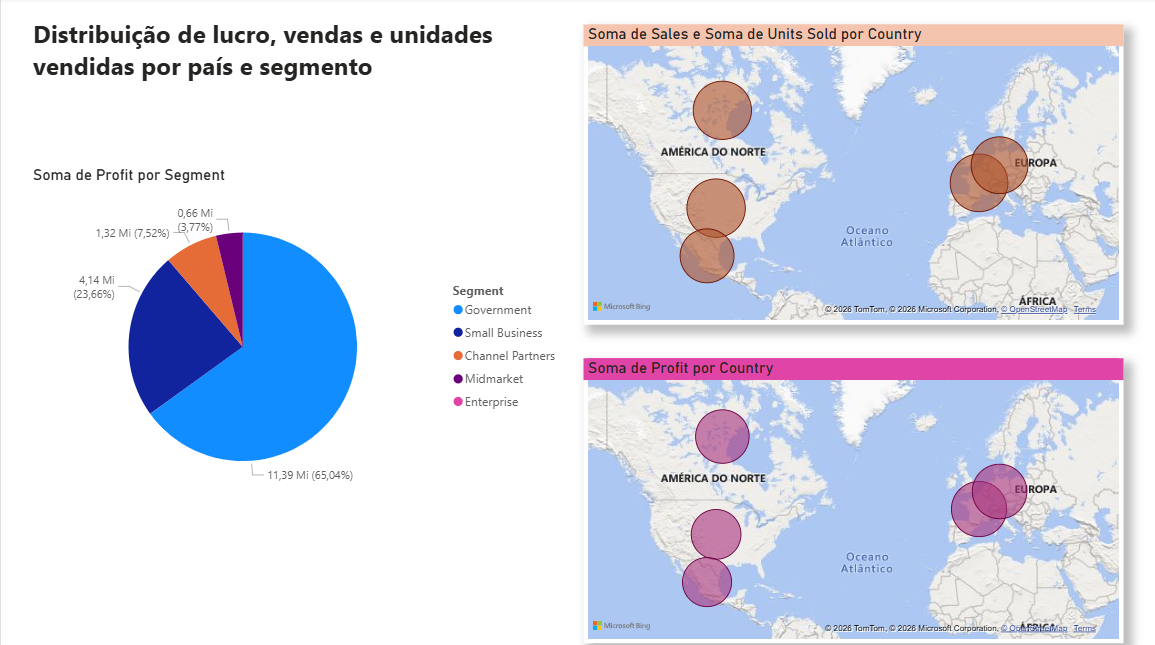

The dashboard page shown, as its layout file describes it:
{"tool":"powerbi","page":{"name":"Página 3","canvas":[1280,720],"ordinal":2},"visuals":[{"type":"map","fields":{"Category":["financials.Country"],"Size":["Sum(financials.Sales)"]},"box":[639.5,30.2,592.8,329.3],"z":0},{"type":"map","fields":{"Category":["financials.Country"],"Size":["Sum(financials.Profit)"]},"box":[639.5,396.6,592.8,312.9],"z":1000},{"type":"pieChart","fields":{"Category":["financials.Segment"],"Y":["Sum(financials.Profit)"]},"box":[30.2,185.2,592.8,378.7],"z":1001},{"type":"textbox","box":[30.2,16.5,592.8,94.7],"z":1002}]}

Visuals, with their boxes in screenshot pixels (x1, y1, x2, y2), scaled from the page's 1280x720 canvas onto the 1155x645 screenshot:
map - financials.Country x Sum(financials.Sales): locate(577, 27, 1112, 322)
map - financials.Country x Sum(financials.Profit): locate(577, 355, 1112, 636)
pieChart - financials.Segment x Sum(financials.Profit): locate(27, 166, 562, 505)
textbox: locate(27, 15, 562, 100)
